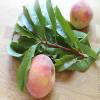Peach leaf: (16, 42, 40, 93), (52, 1, 77, 48), (28, 0, 47, 36), (43, 1, 58, 39), (20, 9, 39, 36), (14, 19, 38, 39), (54, 54, 78, 73), (17, 37, 36, 50)
